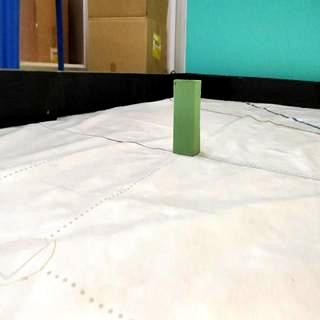greenbox: (172, 80, 202, 156)
